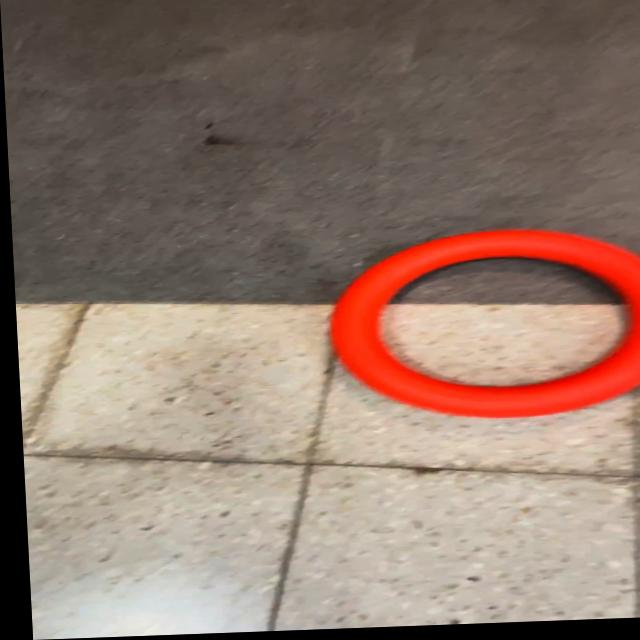note: (319, 228, 640, 429)
